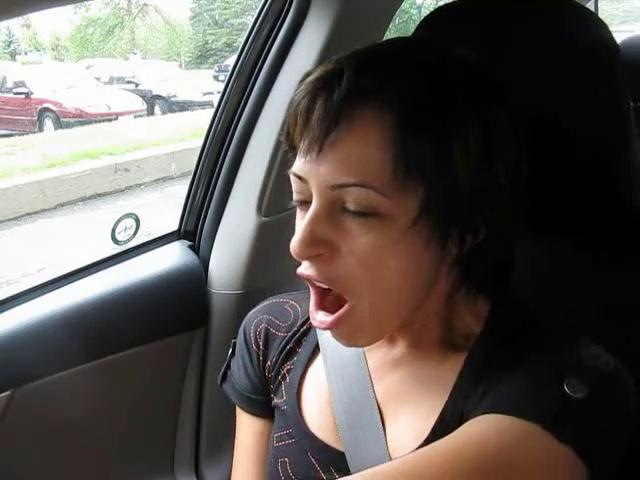close_eyeL: (278, 186, 318, 220)
close_eyeR: (323, 193, 395, 235)
yawn: (284, 274, 368, 329)
